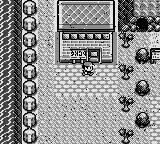captura: (0, 0, 14, 144)
leer: (151, 48, 160, 64)
main: (82, 62, 95, 75)
mo: (15, 0, 22, 144), (118, 97, 134, 112), (118, 65, 134, 80), (119, 33, 134, 48), (118, 129, 134, 143)
no-caminable: (58, 1, 114, 63), (22, 0, 38, 143), (118, 0, 160, 32), (135, 112, 150, 128), (135, 48, 150, 63), (135, 81, 150, 95)
puerta: (136, 18, 148, 32), (89, 49, 99, 63)
